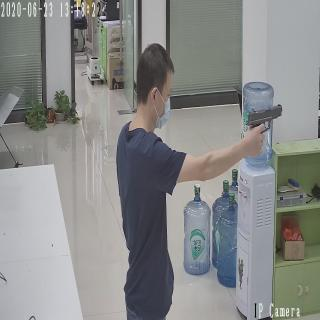gun: (246, 102, 284, 156)
